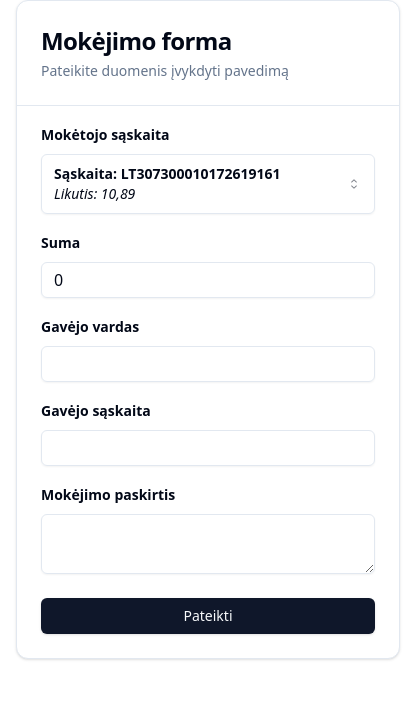
PaymentForm: Validator › should fail when amount is more than in selected account
In the field labelled "Suma": (208, 280) 41,262 -> 375,298, type "100"
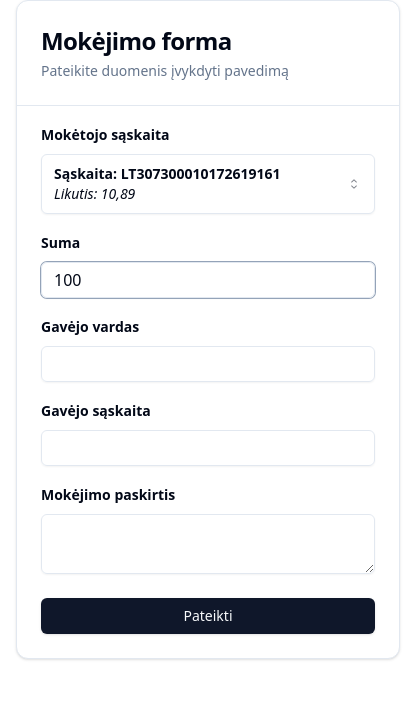
In the field labelled "Gavėjo sąskaita": (208, 448) 41,430 -> 375,466, type "LT307300010172619164"
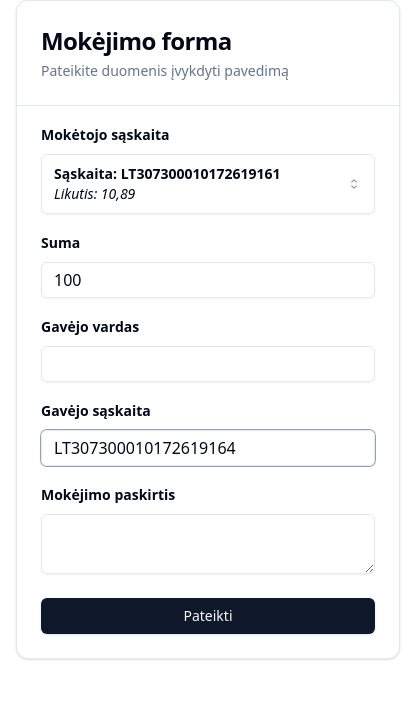
In the field labelled "Gavėjo vardas": (208, 364) 41,346 -> 375,382, type "Ona Marija"
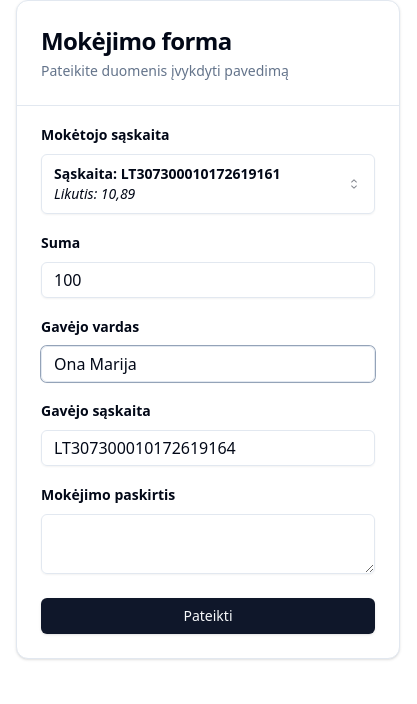
In the text box labelled "Mokėjimo paskirtis": (208, 544) 41,514 -> 375,574, type "Loan"
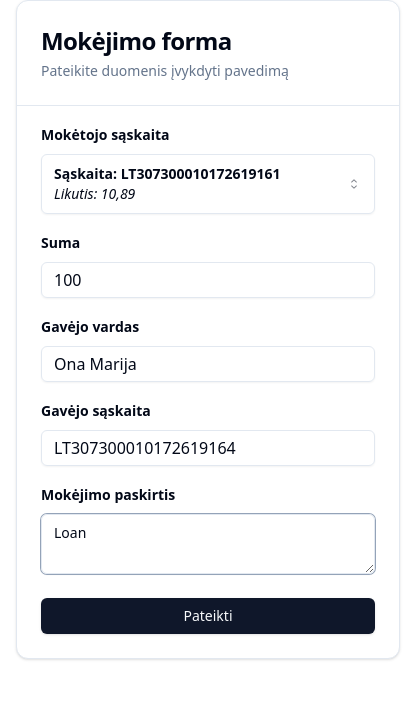
Click the button "Pateikti": (208, 616) 41,598 -> 375,634
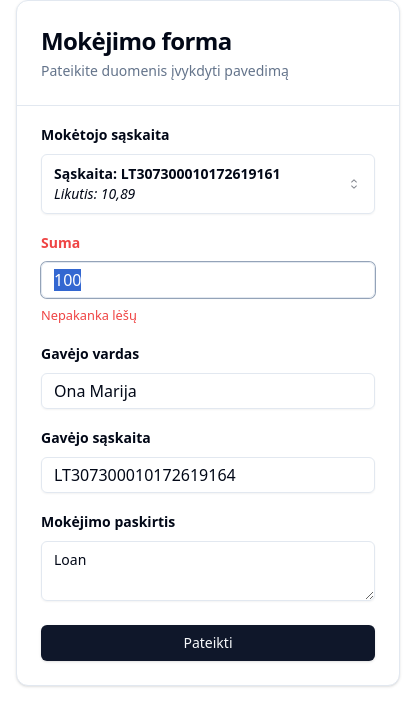
Expected: the text "Nepakanka lėšų" is shown, 41,306 -> 137,324
